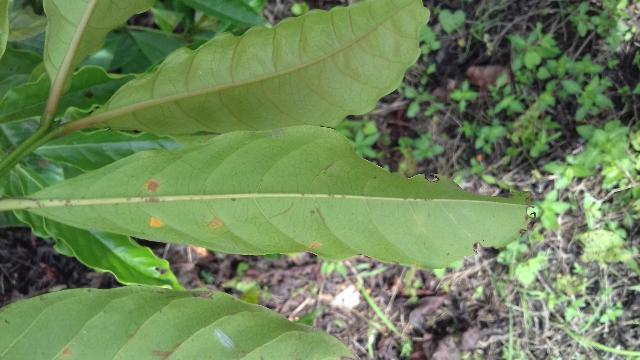rust_level_1: (14, 125, 533, 271)
